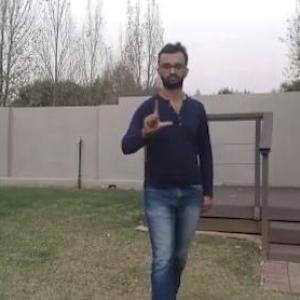land_hand: (140, 95, 174, 138)
